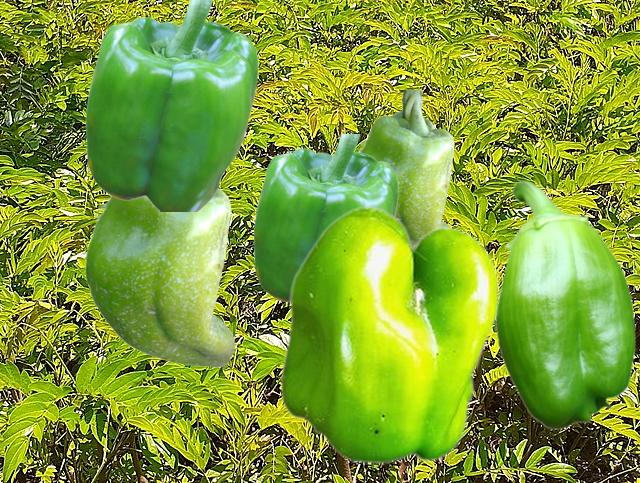bell_pepper: (279, 205, 498, 463), (85, 0, 257, 210), (494, 180, 635, 429), (84, 188, 234, 366), (253, 134, 397, 302), (357, 90, 454, 244)
